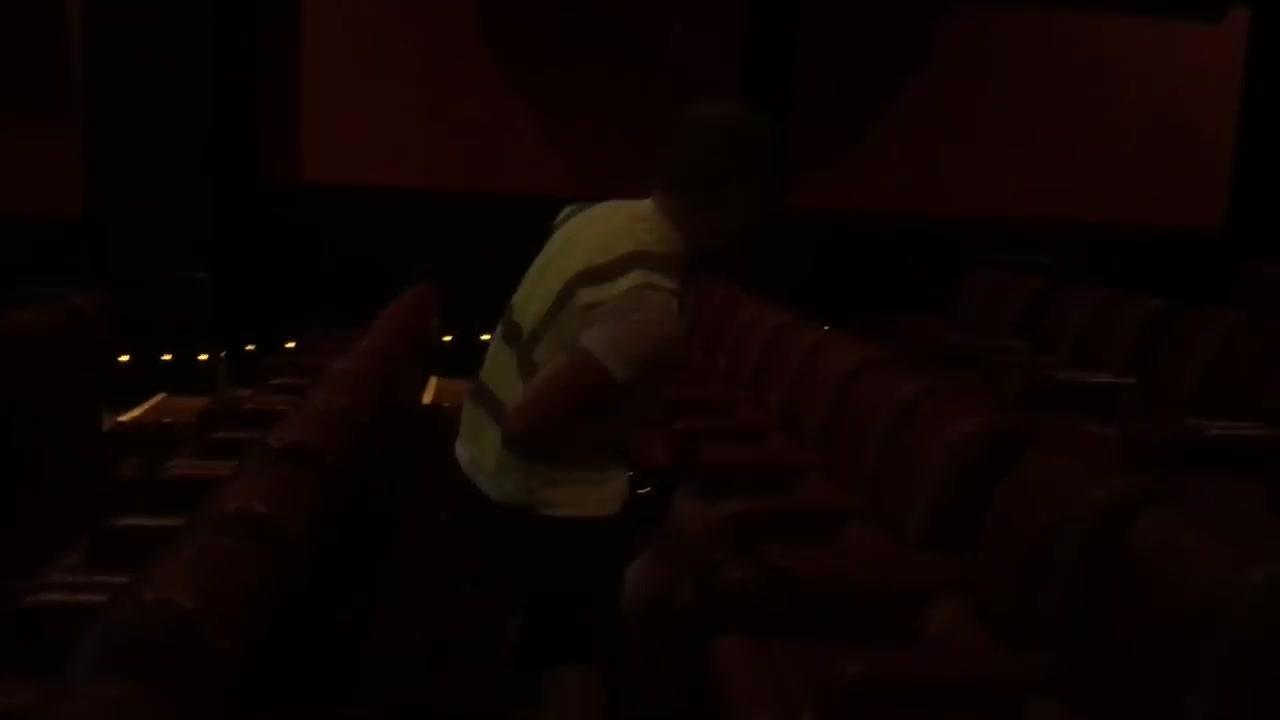vest: (458, 196, 679, 484)
